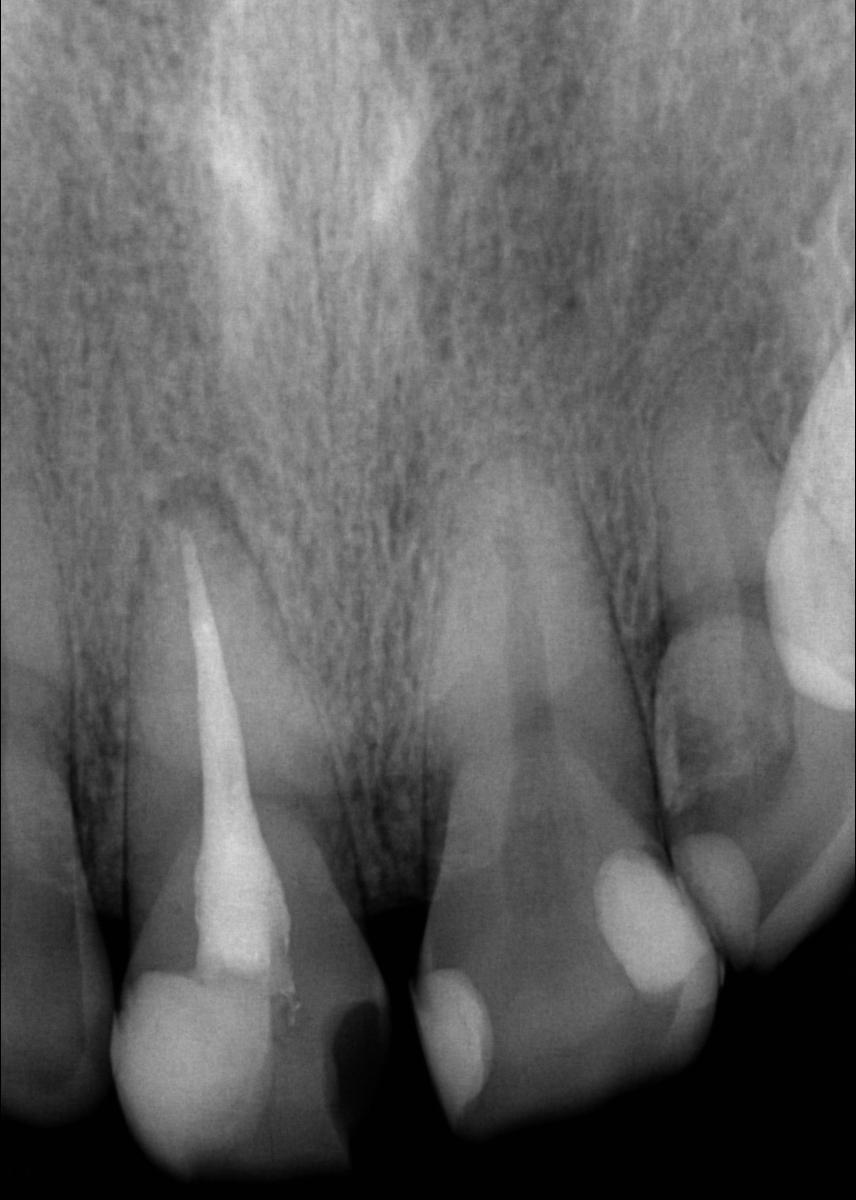Furcation Involvement: (147, 467, 261, 564)
